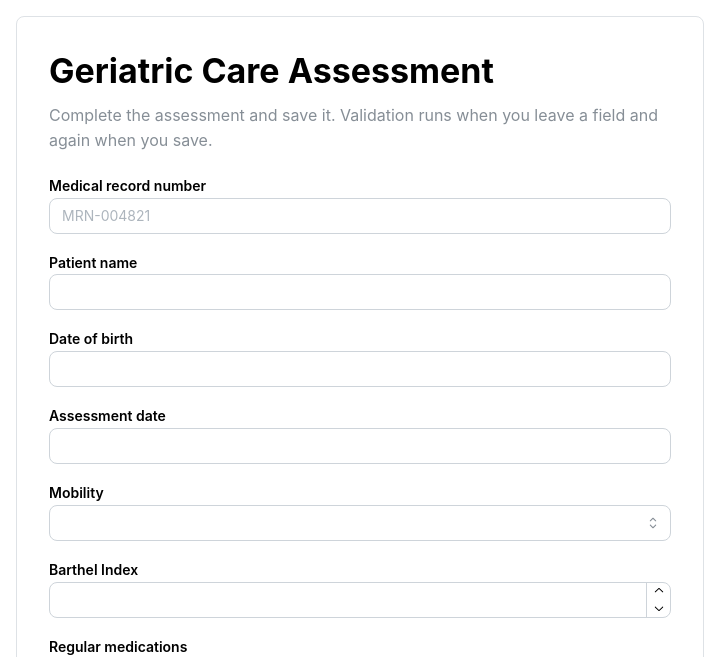
Scenario: AssessmentForm › validates the blurred field and leaves untouched fields quiet
Step 1. Click the field labelled "Medical record number" → point(360, 216), box x1=49 y1=198 x2=671 y2=234
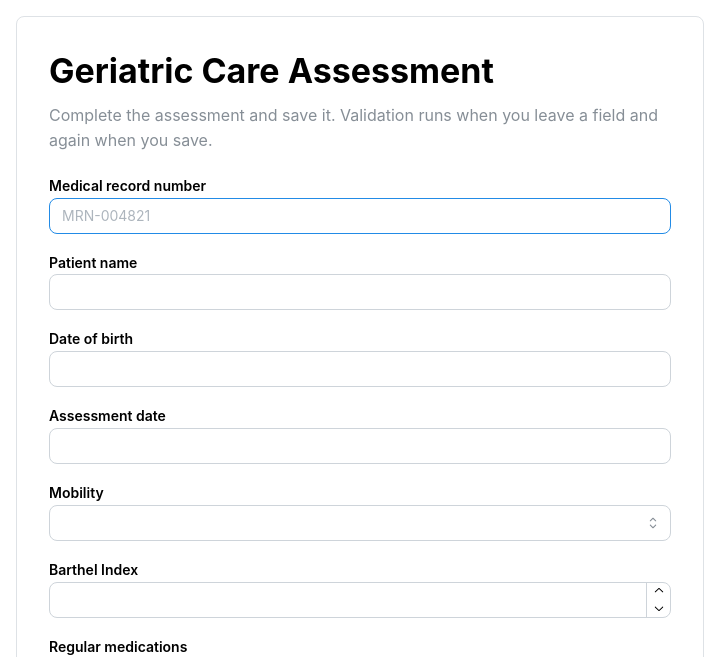
Step 2. Press Tab
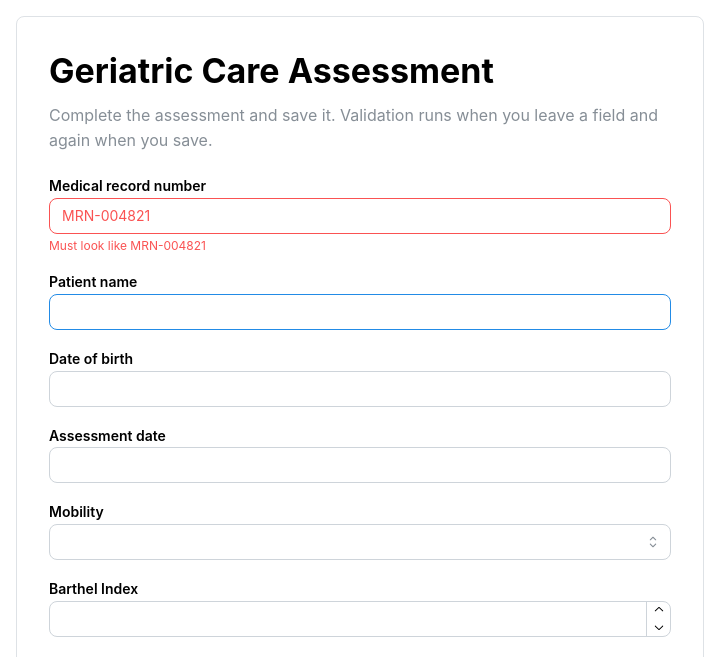
Expected: the text "Must look like MRN-004821" is shown, x1=49 y1=238 x2=206 y2=253
